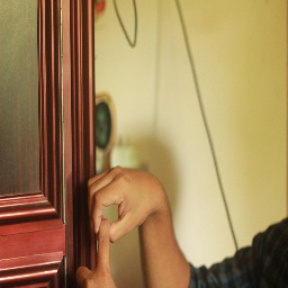Q: (71, 164, 160, 287)
